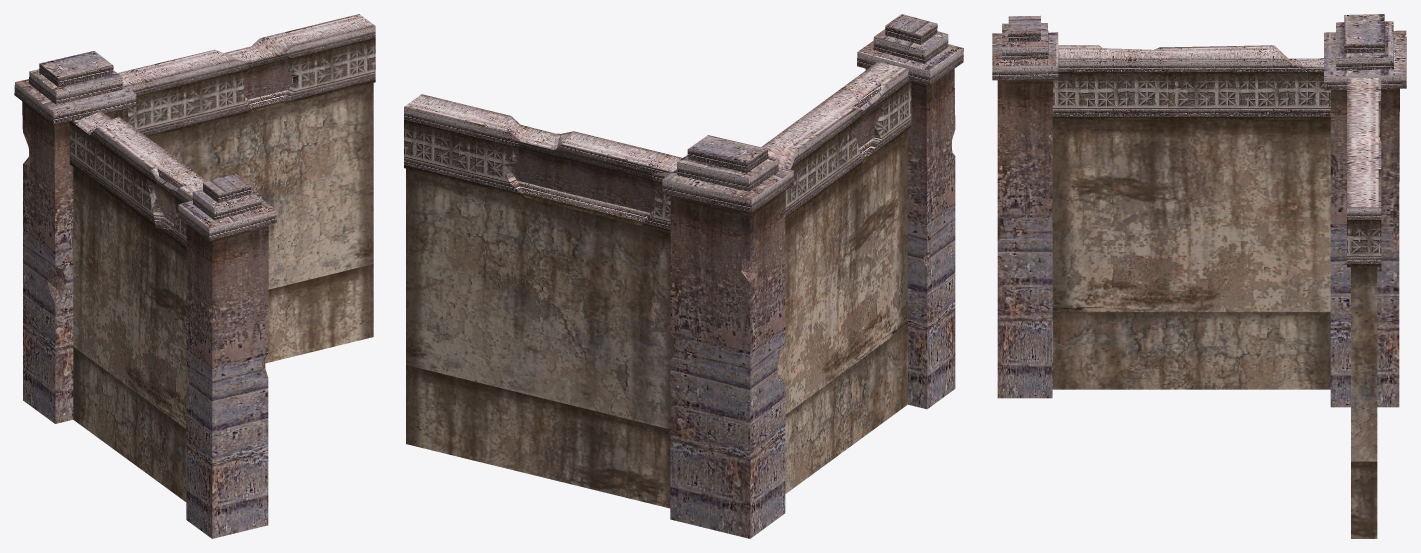
Rendered from MWalB4.glb.
3 views of the same model, side by side, from view 1: azimuth 30°, elevation 25°; view 2: azimuth 150°, elevation 25°; view 3: azimuth 270°, elevation 25° (orthographic). The views are drawn at different scales.
Visible parts, largest first — view 1: _MWalB4; view 2: _MWalB4; view 3: _MWalB4.
Part boxes in pixels (x1,y1,x2,y2): _MWalB4: (14,14,375,538); _MWalB4: (404,14,963,538); _MWalB4: (992,14,1406,538).
Bounding box in the file's own units: 4.46 × 4.34 × 4.52.
2 materials, 2 textured.
